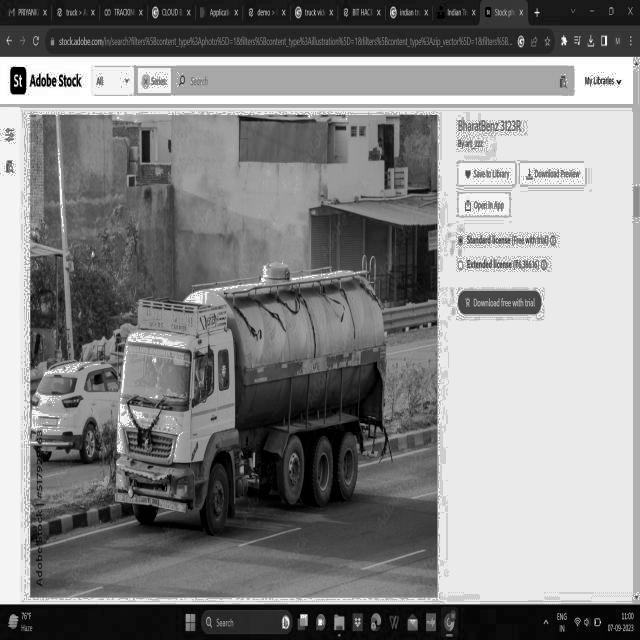HCV: (105, 236, 414, 540)
